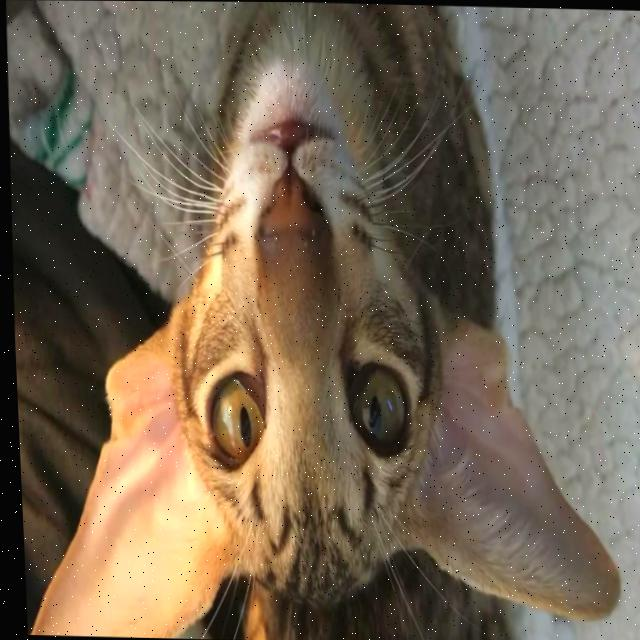Oriental: (0, 0, 628, 640)
